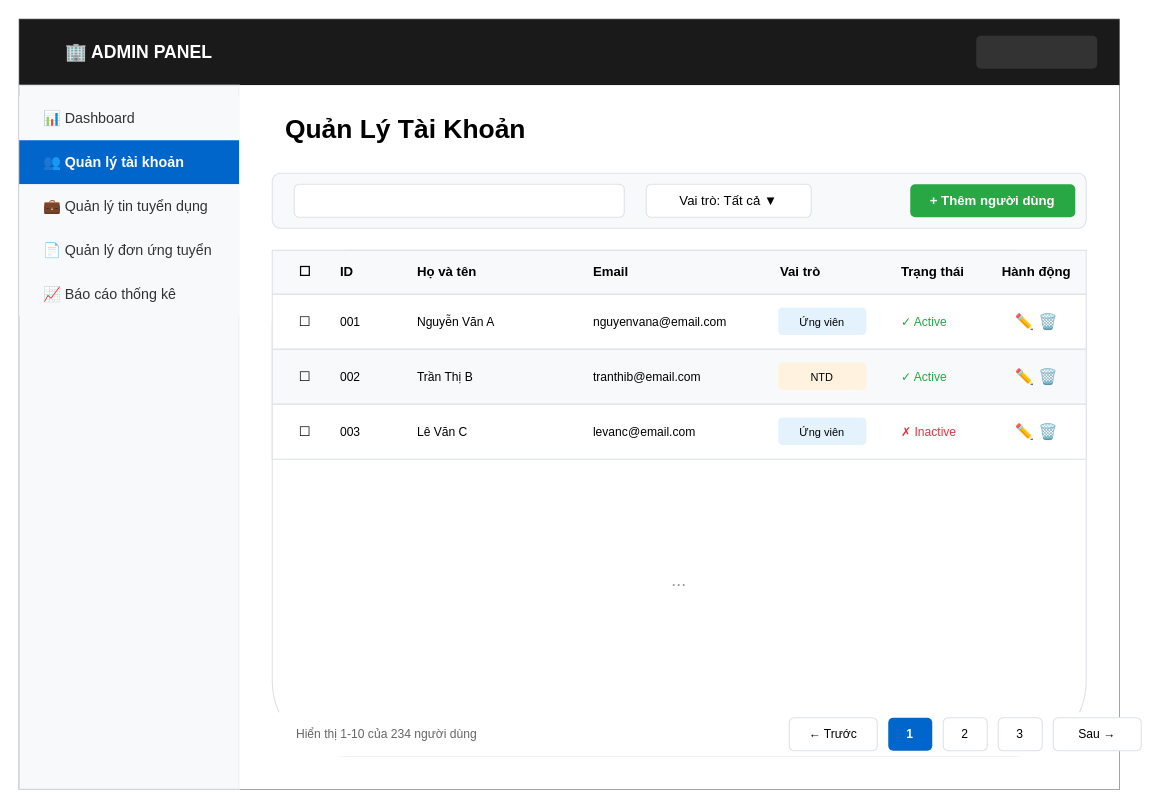
The diagram is 1161 pixels wide and 809 high, and some of its shapes have lost their labels. The centre of each missing label's shape, as x and y in pixels:
👤 Admin: the point at 1036,51
🔍 Tìm kiếm theo tên, email...: the point at 458,200
